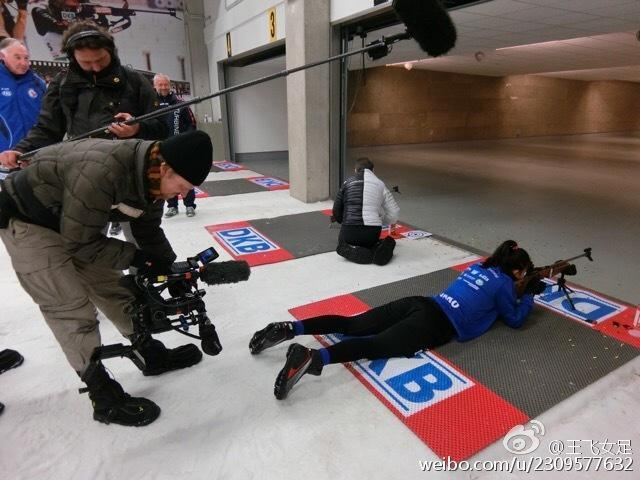Fall-Detected: (242, 232, 553, 402)
